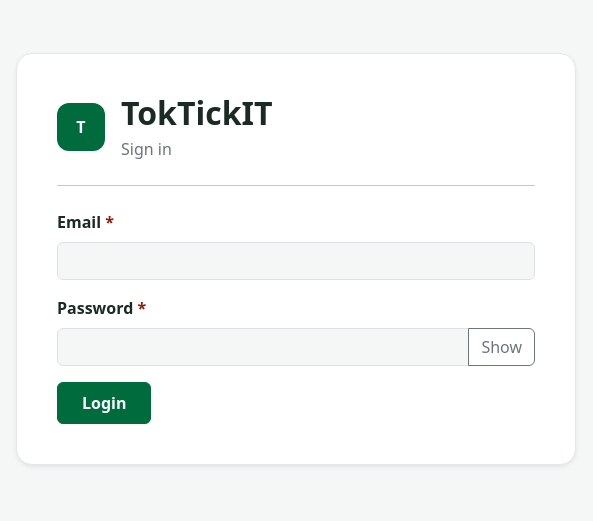
Test case: Login › shows a lockout message distinct from invalid credentials (AC-L3-06)
The image size is (593, 521).
Type "jane@toktickit.test" into the field labelled "Email *" at coordinates (296, 261), box [57,242,535,280]
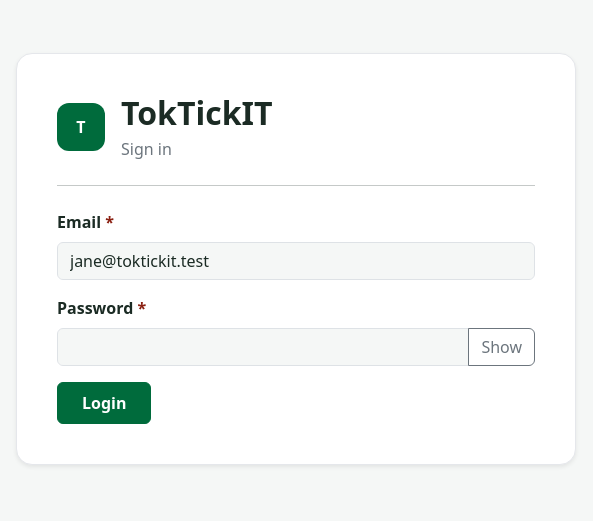
Type "DevPass123!" into the password field labelled "Password *" at coordinates (263, 347), box [57,328,469,366]
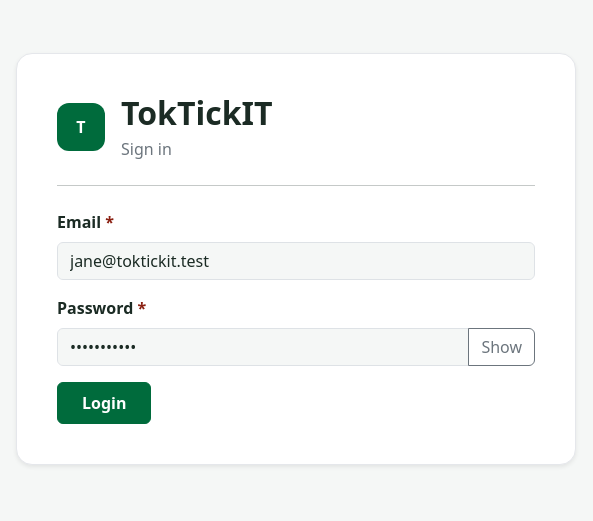
Click the button "Login" at coordinates (104, 403), box [57,382,152,424]
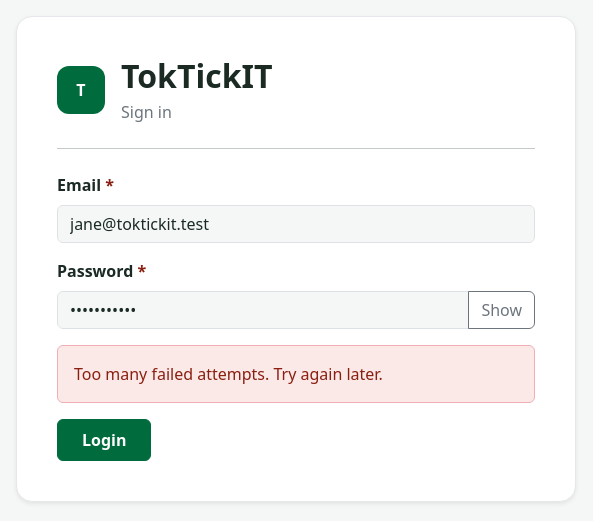
Result: the message shows "Too many failed attempts" at [74,363,383,385]
